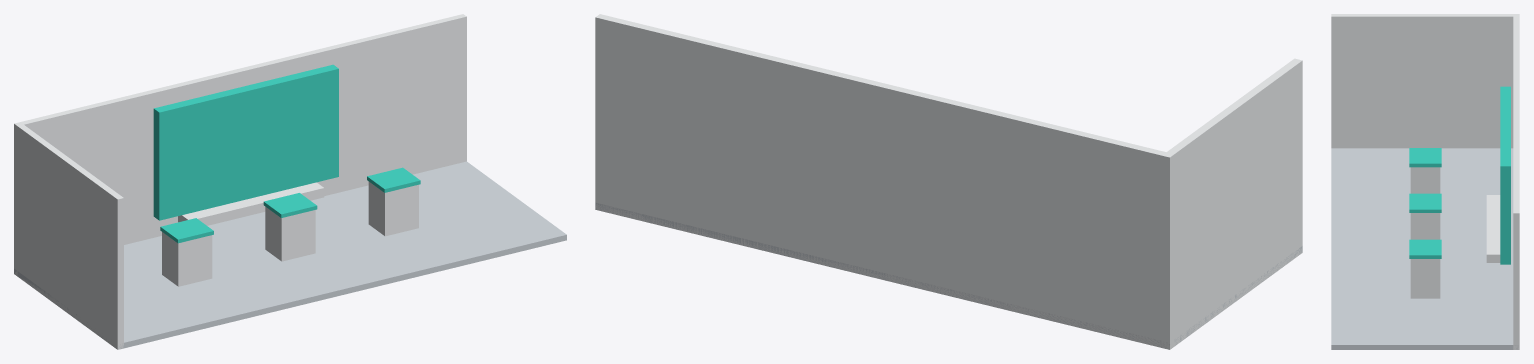
The picture shows the model from 3 angles, left to right: view 1: azimuth 30°, elevation 25°; view 2: azimuth 150°, elevation 25°; view 3: azimuth 270°, elevation 25°; orthographic projection. The views are drawn at different scales.
Visible parts, largest first — view 1: Exhibition Booth Concept; view 2: Exhibition Booth Concept; view 3: Exhibition Booth Concept.
Boxes of the visible parts, x1,y1,x2,y2 form: Exhibition Booth Concept: (14, 14, 566, 349); Exhibition Booth Concept: (595, 14, 1302, 349); Exhibition Booth Concept: (1331, 14, 1519, 349).
Size of the model in its own units: 10 by 3.2 by 4.
